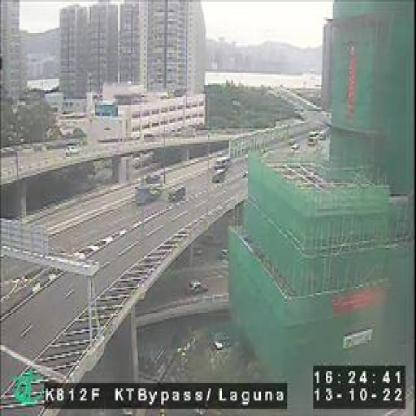Bus: (216, 153, 232, 172)
Car: (189, 278, 209, 296), (170, 185, 187, 203), (211, 168, 225, 184)
